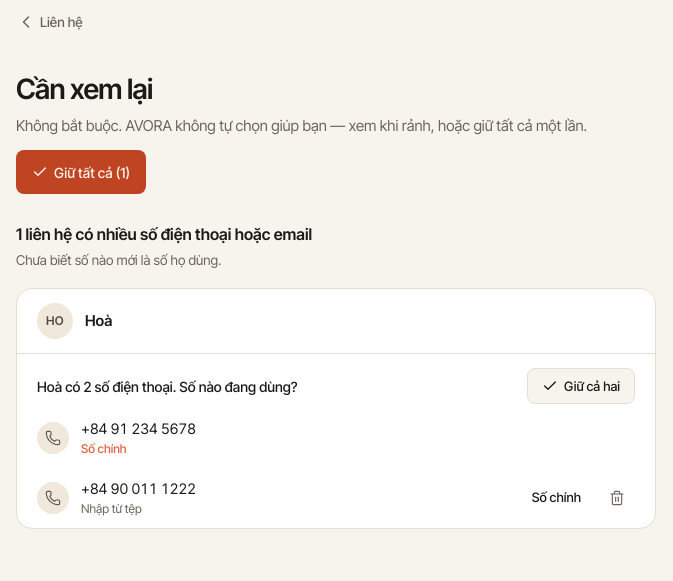
Test: a refusal from the server is said in the reader's own language
The width and height of the screenshot is (673, 581).
Note: Two numbers in all (the contact's own + one): the answer reads "Giữ cả hai".
Click the button "Giữ cả hai" at (581,386), box x1=527 y1=368 x2=635 y2=404
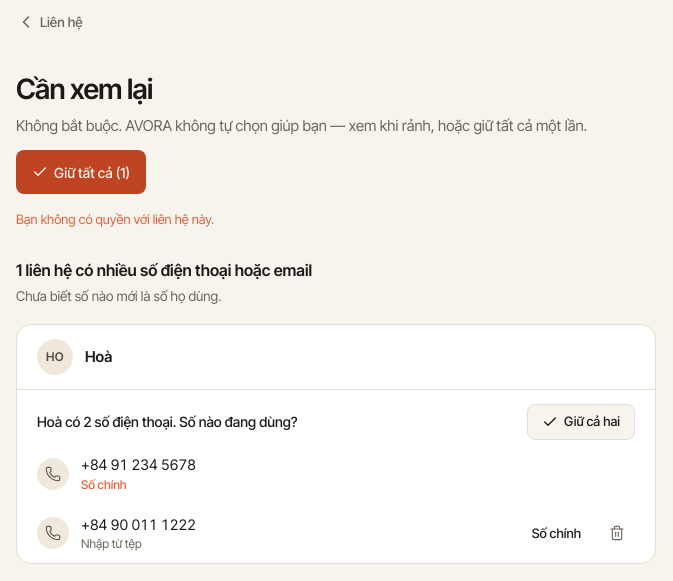
Expected: the message shows "Bạn không có quyền", x1=16 y1=211 x2=214 y2=227
